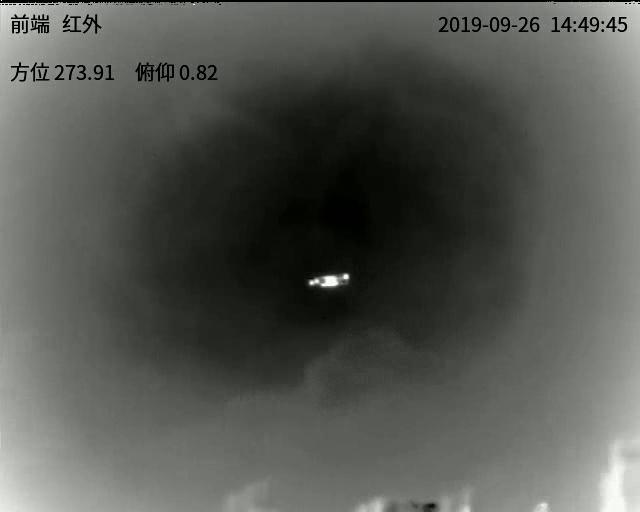DRONE: (307, 272, 350, 287)
